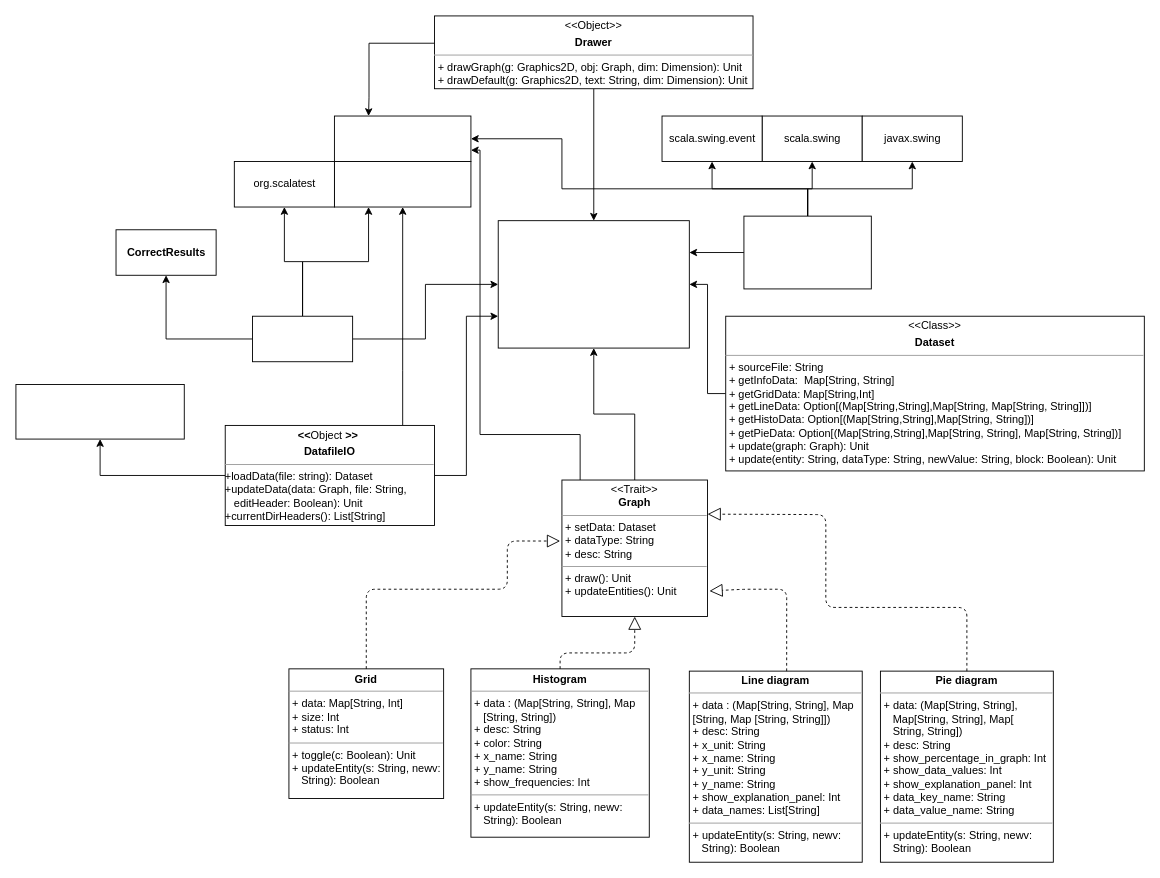
This 1160x878 diagram has some shape labels left out. Here are the shapes that lost their labels. From the top down, the centre of each, then its label:
pixel 402 138: java.awt
pixel 402 184: java.io
pixel 807 252: APP
pixel 593 284: «package» Library
pixel 302 338: IOTest
pixel 99 411: CorruptedDatafileException
